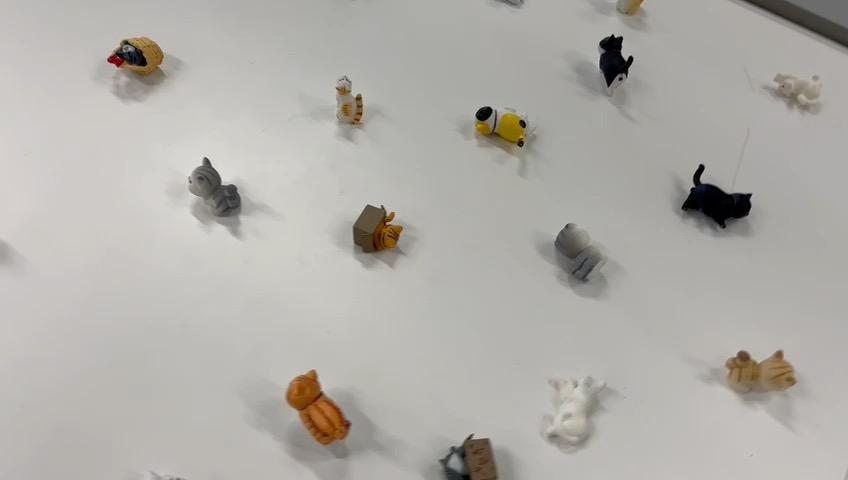pet: (280, 365, 359, 449), (679, 159, 757, 231), (540, 367, 607, 447), (182, 150, 248, 220), (723, 344, 801, 397), (470, 97, 542, 153), (552, 218, 611, 285), (345, 197, 407, 256), (437, 430, 504, 480), (593, 28, 639, 98), (104, 32, 168, 78), (767, 70, 827, 114), (328, 73, 368, 129)
